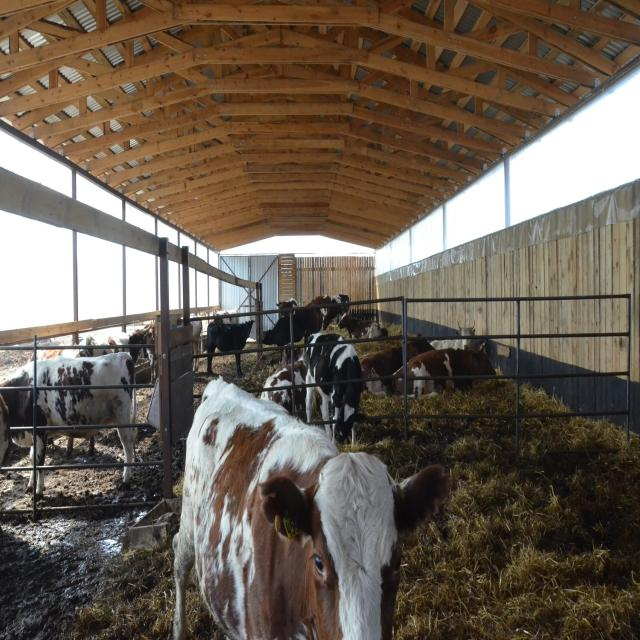cow: (171, 375, 450, 639), (0, 349, 138, 495), (302, 330, 364, 444), (392, 342, 496, 400), (360, 334, 436, 395), (206, 318, 255, 376), (338, 310, 389, 340), (428, 323, 476, 351)
